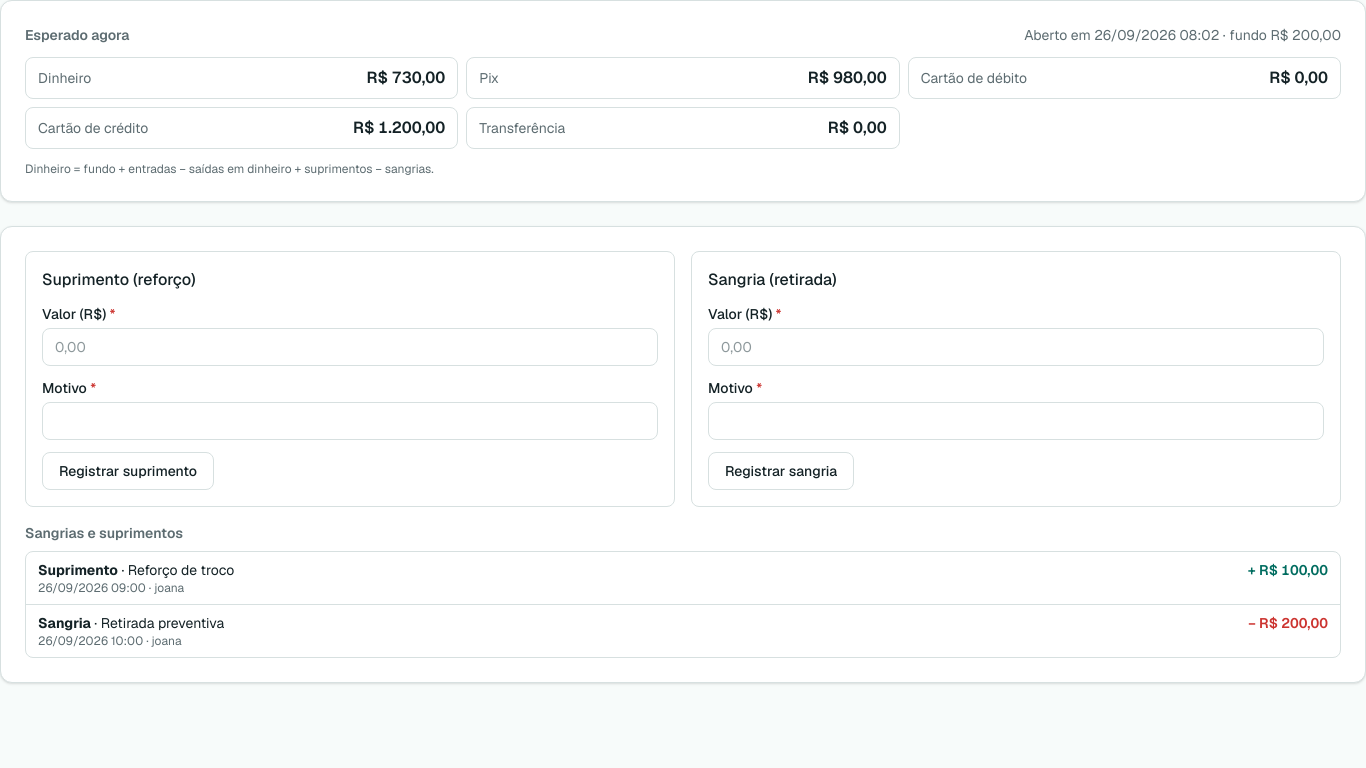
Scenario: CaixaOperacao › sangria pede confirmação e mostra o 409 de sangria excedente
Type "900" into the field labelled "Valor (R$) *" below "Sangria (retirada)".
click(1016, 347); type("900")  # box left=708, top=328, right=1324, bottom=366
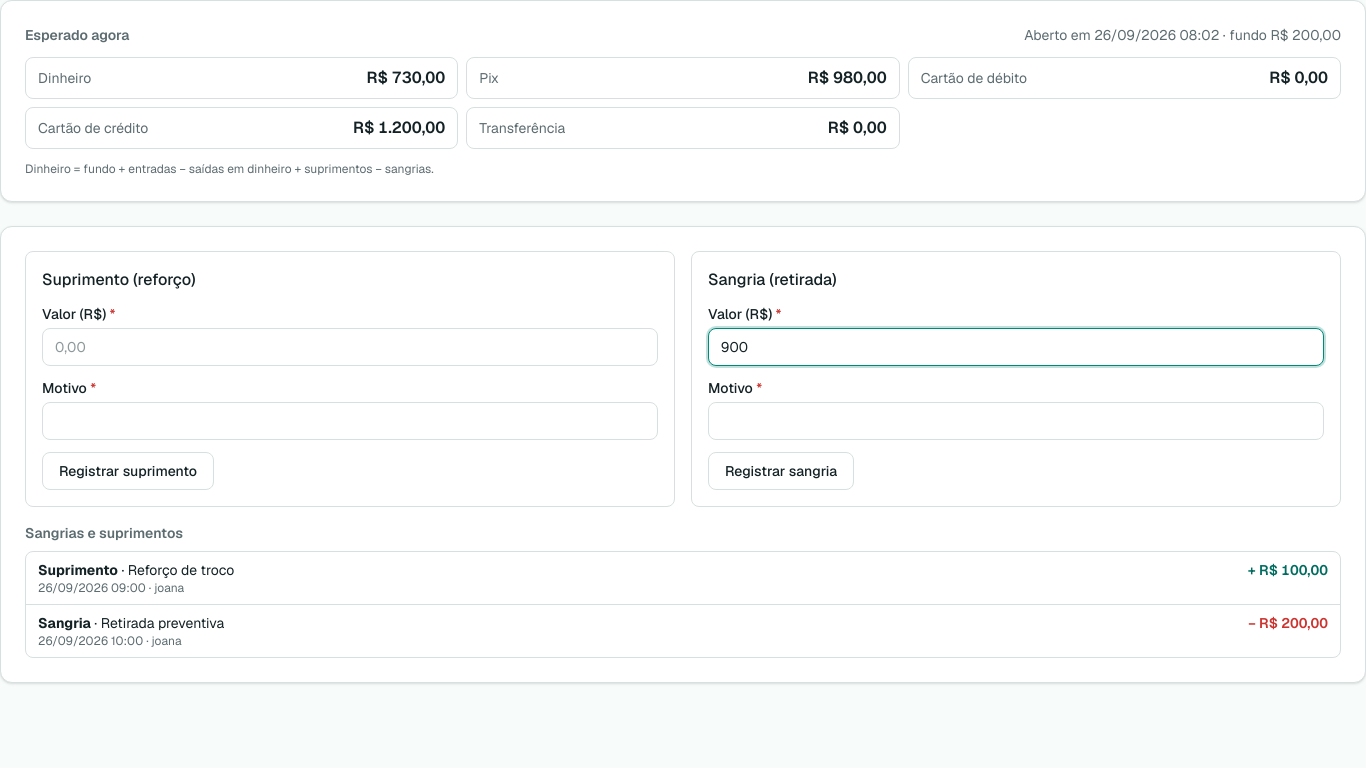
Type "Retirada grande" into the field labelled "Motivo *" below "Sangria (retirada)".
click(1016, 421); type("Retirada grande")  # box left=708, top=402, right=1324, bottom=440
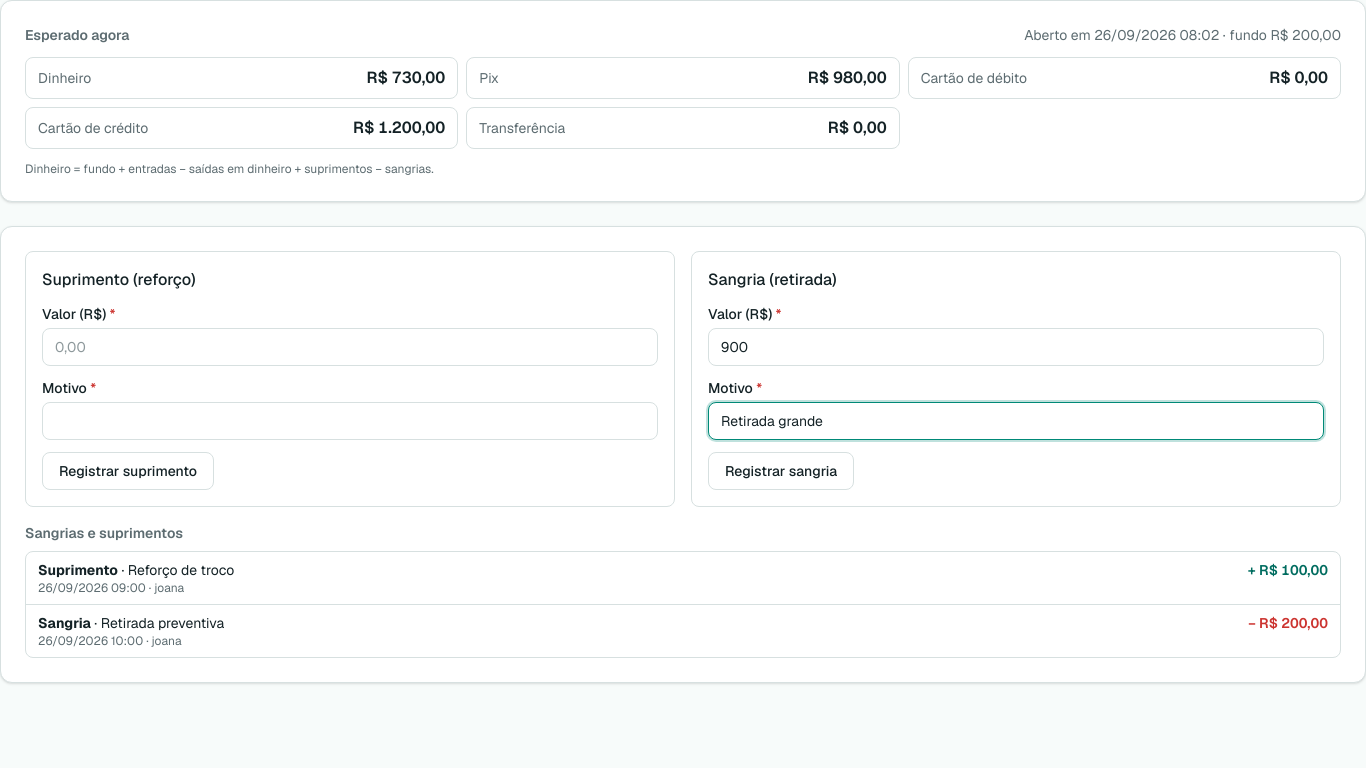
Click the button "Registrar sangria".
click(781, 471)  # box left=708, top=452, right=854, bottom=490
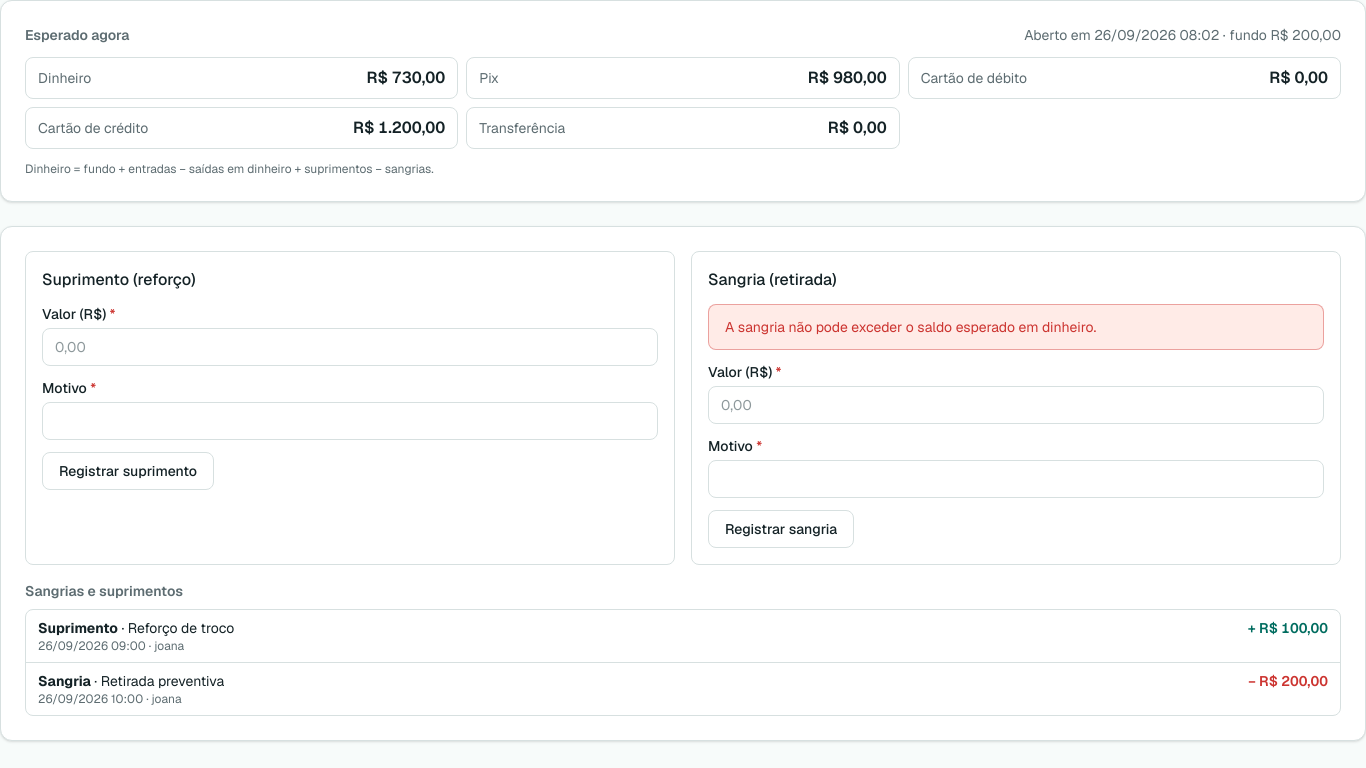
expect the text "A sangria não pode exceder o saldo esperado em dinheiro." is shown: met, box left=708, top=304, right=1324, bottom=350
